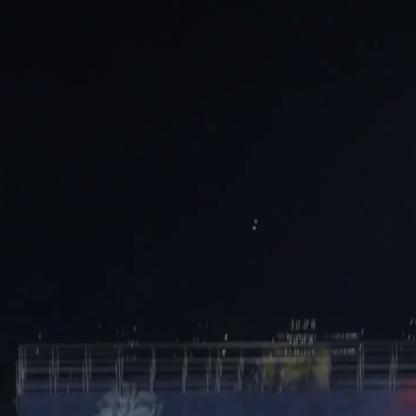ball: (249, 224, 260, 233), (251, 214, 261, 222)
